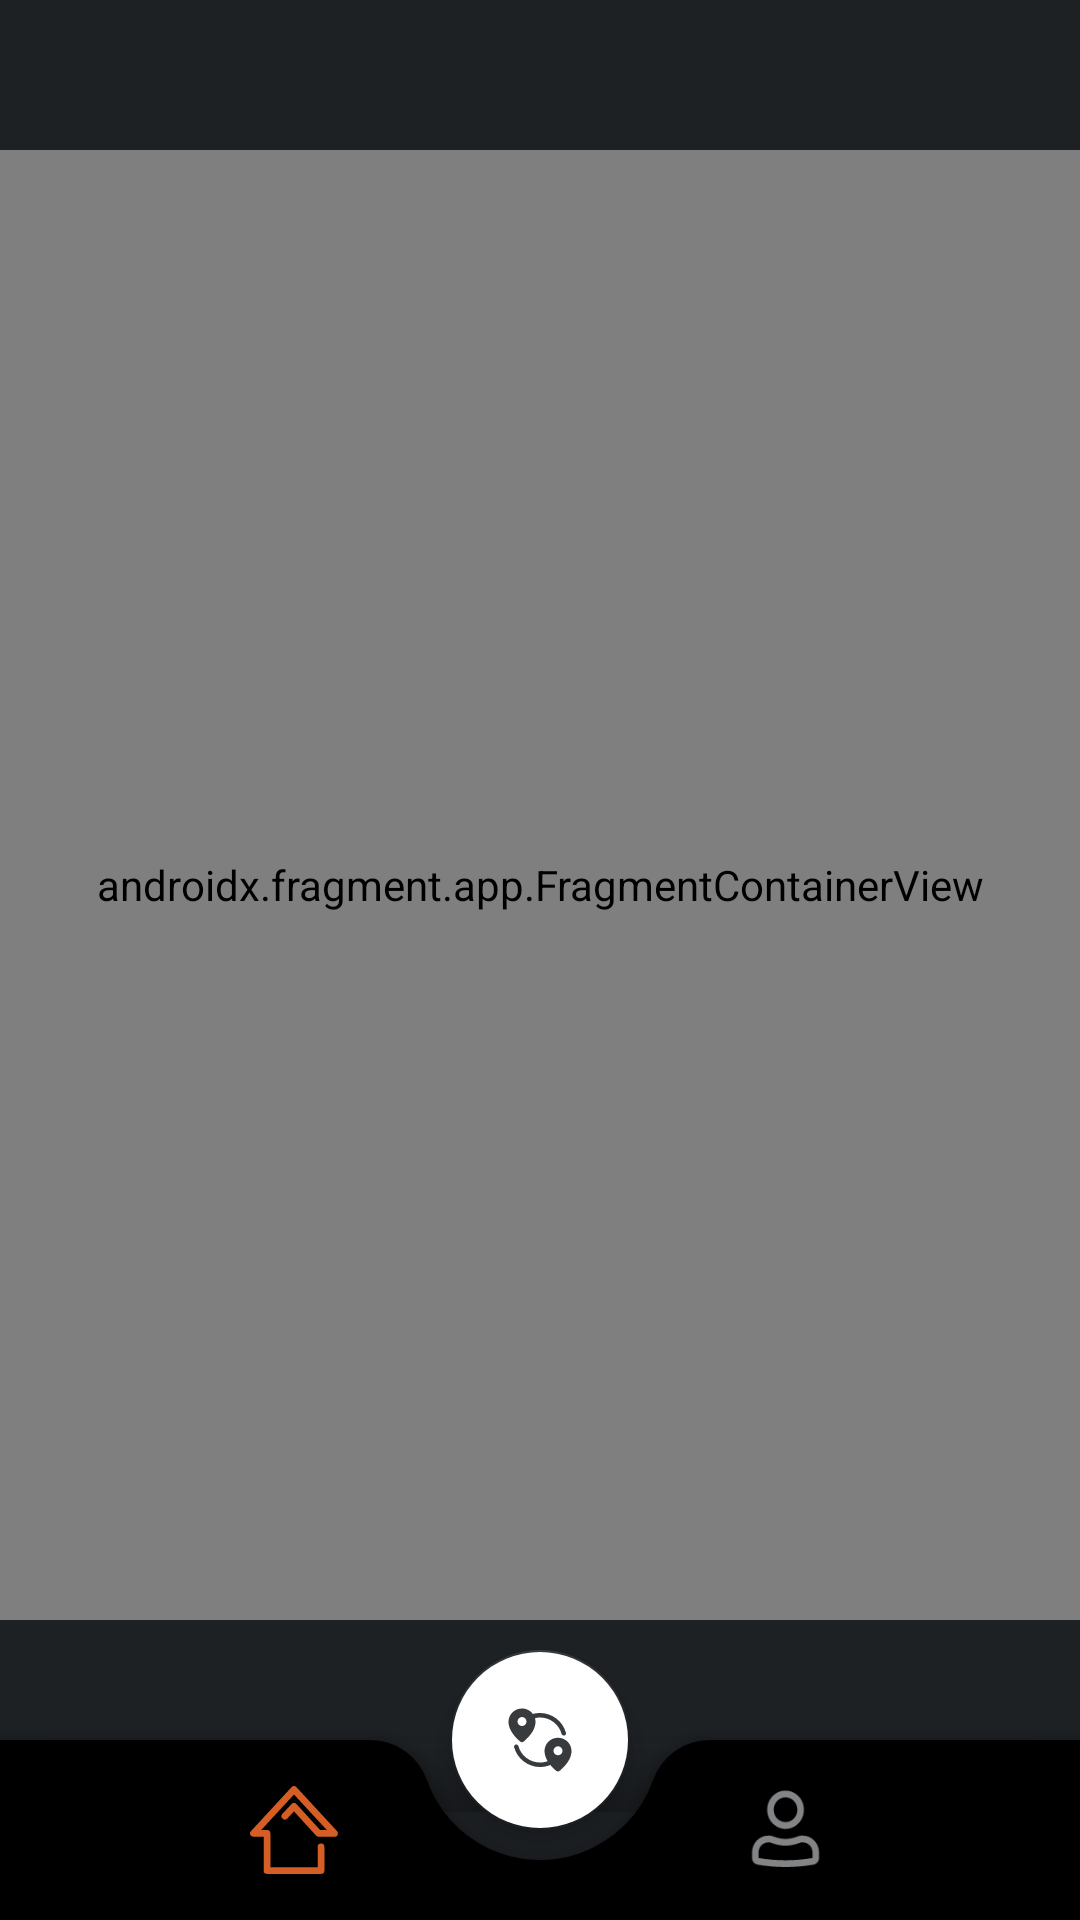

Screen size 1080w x 1920h. Icon name, then its center in pixels as (x,y):
route: (540,1739)
